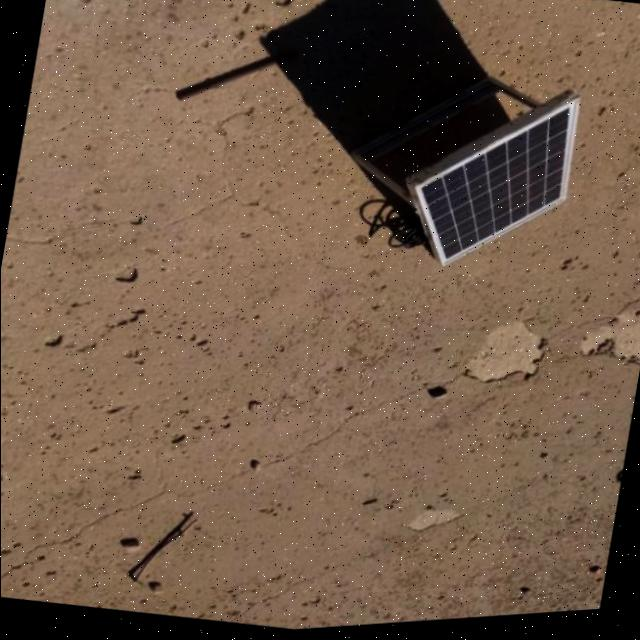Normal Solar Panel: (400, 78, 580, 292)
